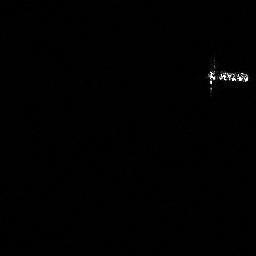ship: (196, 62, 249, 91)
